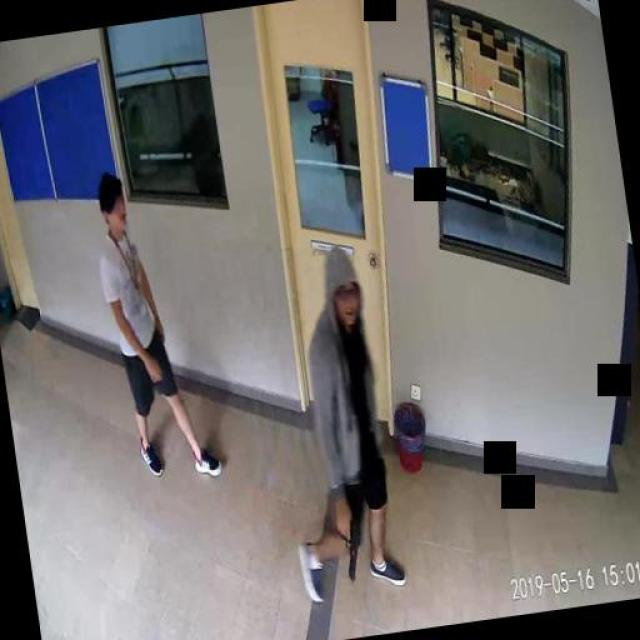gun: (334, 511, 364, 581)
